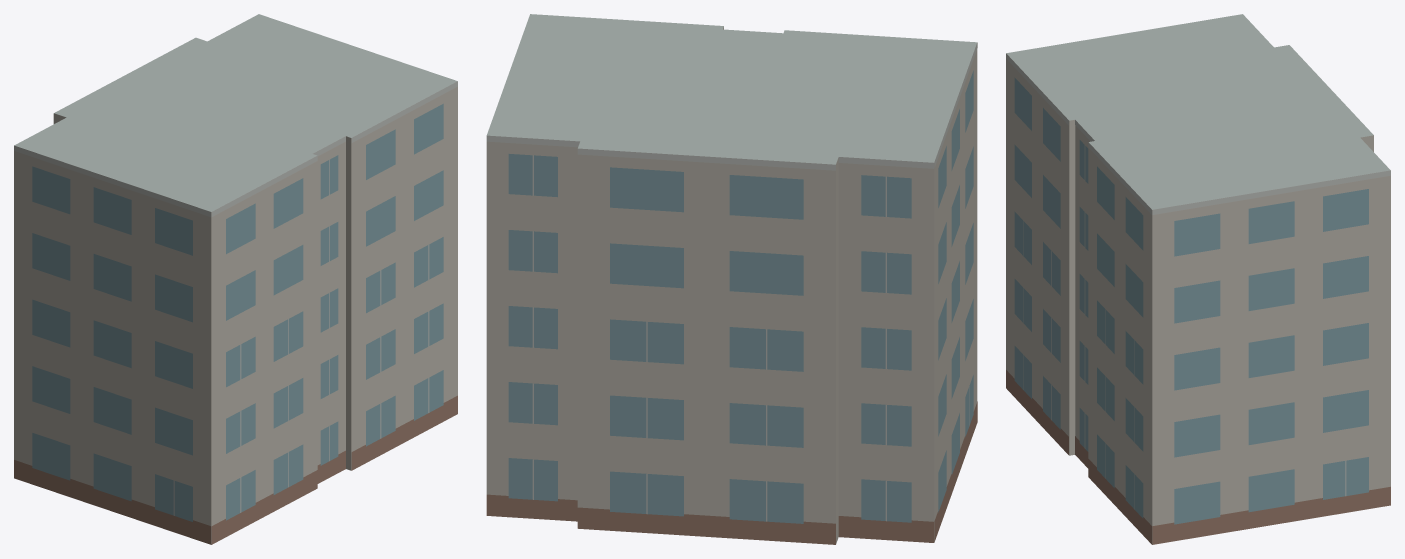
File: survey-upis-32908195.glb
3 renders of one model, left to right at view 1: azimuth 30°, elevation 25°; view 2: azimuth 150°, elevation 25°; view 3: azimuth 270°, elevation 25°, orthographic. The views are drawn at different scales.
Parts seen in each view (by area): view 1: survey-upis-32908195.tmp; view 2: survey-upis-32908195.tmp; view 3: survey-upis-32908195.tmp.
Part boxes in pixels (left/top/right/bottom): survey-upis-32908195.tmp: left=14, top=14, right=457, bottom=544; survey-upis-32908195.tmp: left=486, top=14, right=977, bottom=544; survey-upis-32908195.tmp: left=1006, top=14, right=1390, bottom=544.
Bounding box in the file's own units: 19.13 × 15.25 × 15.88.
